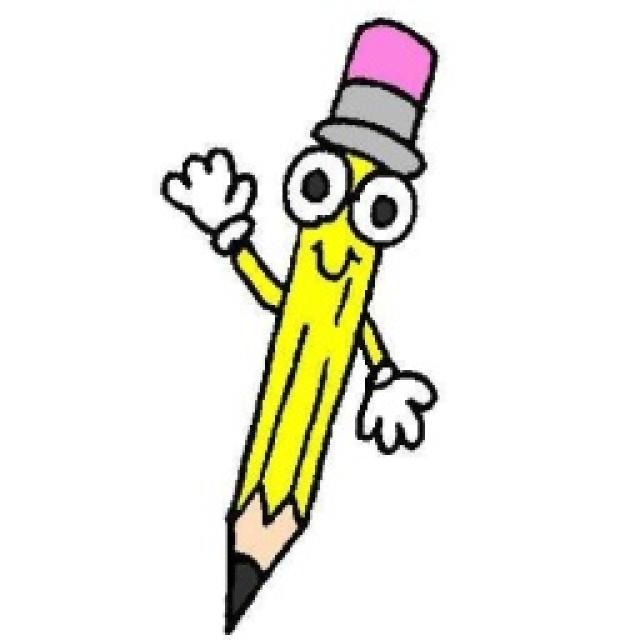pencil: (155, 13, 445, 635)
